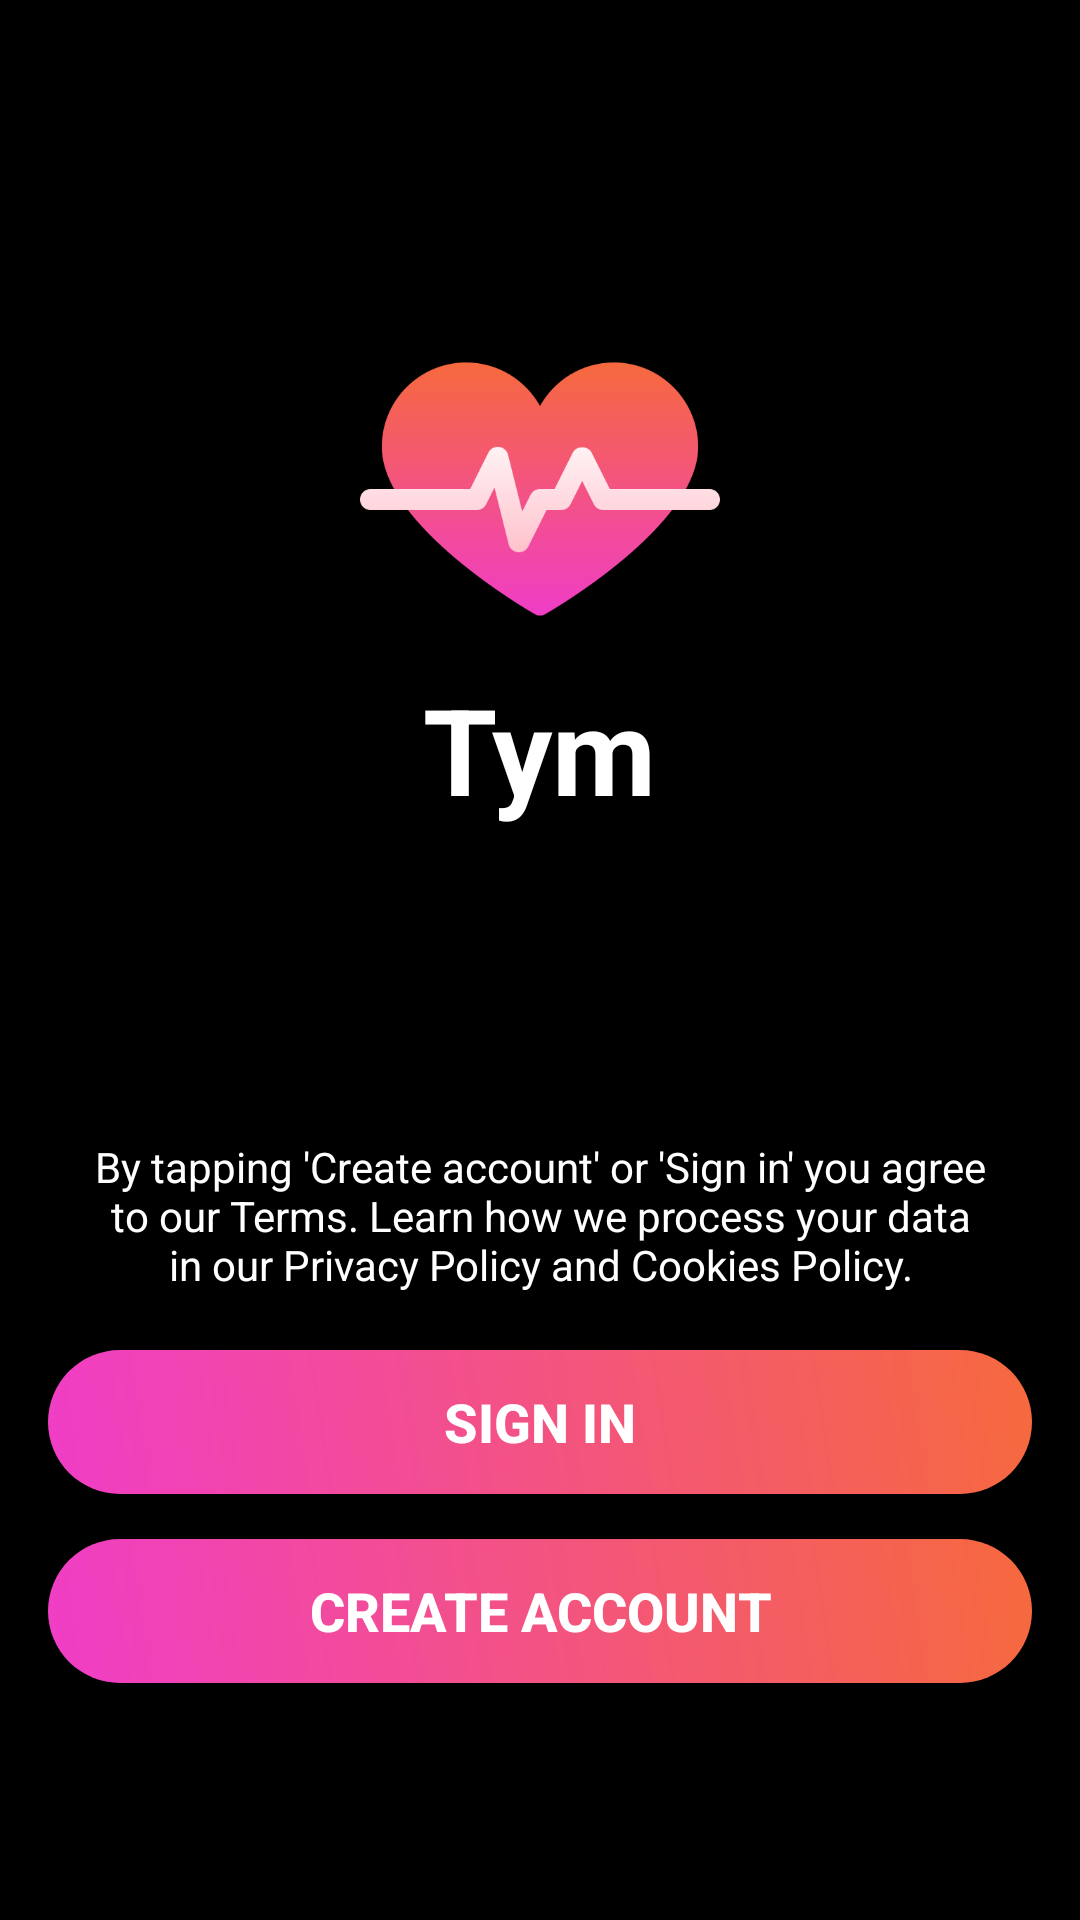

Icons on this 1080x1920 Android screen, each with the point to tap as (x,y):
heart beat: (540,489)
